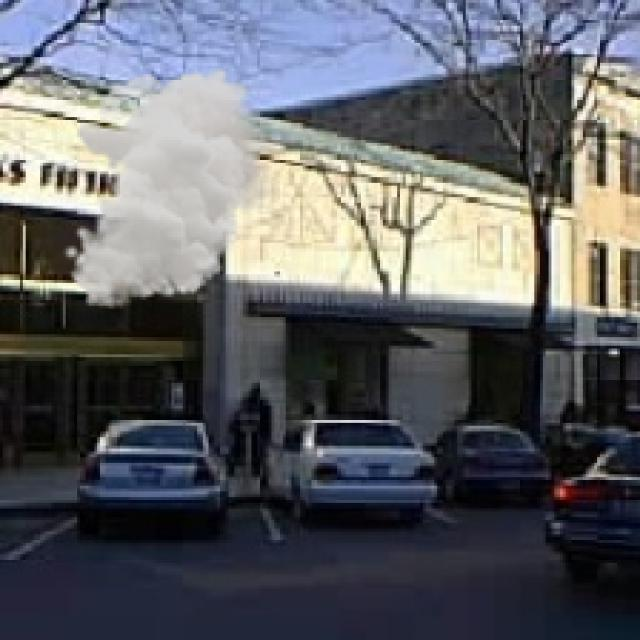Smoke: (63, 65, 280, 308)
